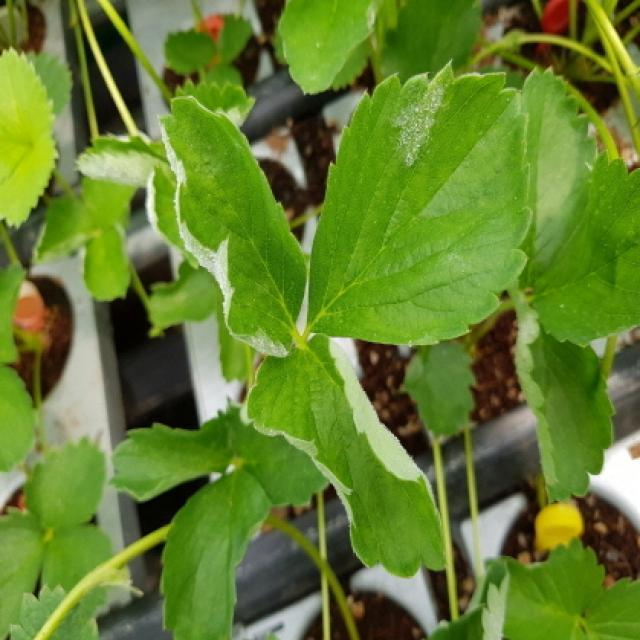powdery_mildew_leaf: (306, 54, 535, 347), (245, 334, 450, 578), (158, 93, 308, 359), (277, 0, 402, 96), (422, 559, 513, 638), (145, 164, 200, 269), (75, 134, 171, 186)
